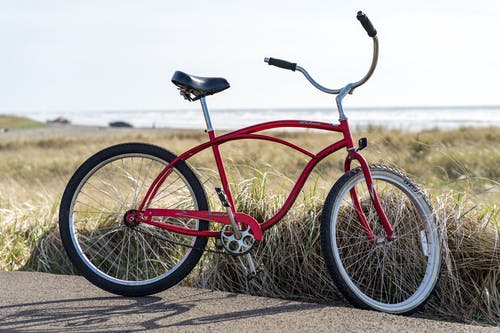bicycle: (54, 6, 445, 324)
